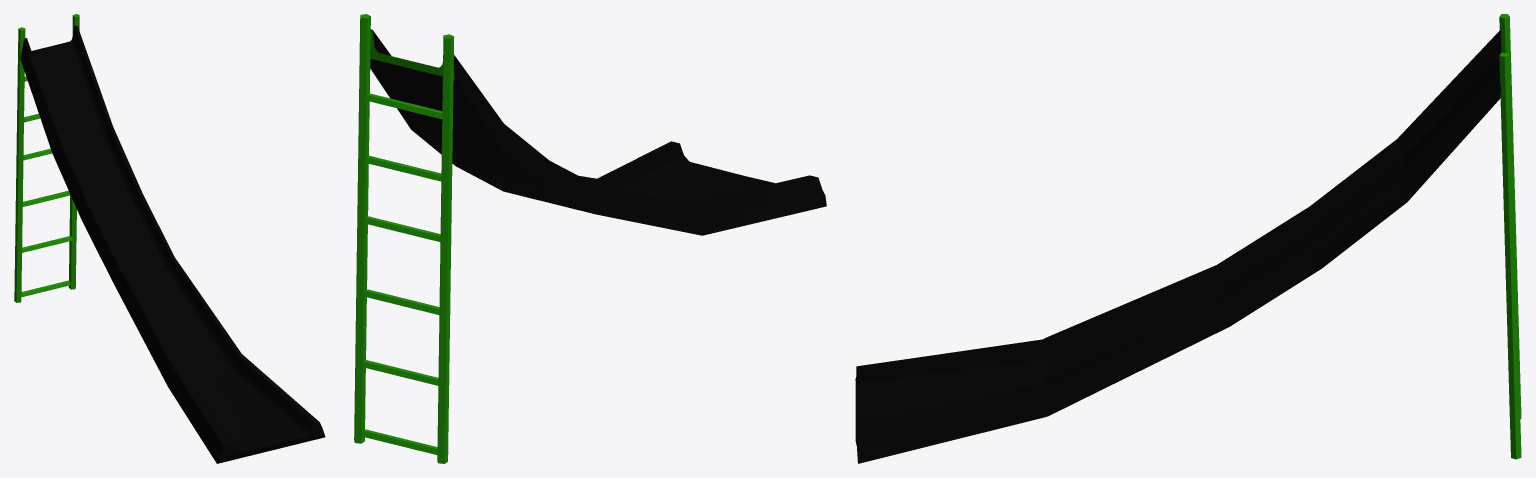
The model's file is Slide_AD.fbx.
The picture shows the model from 3 angles, left to right: view 1: azimuth 30°, elevation 25°; view 2: azimuth 150°, elevation 25°; view 3: azimuth 270°, elevation 25°; orthographic projection. The views are drawn at different scales.
Visible parts, largest first — view 1: Slide_AD; view 2: Slide_AD; view 3: Slide_AD.
Boxes of the visible parts, x1,y1,x2,y2 form: Slide_AD: (14, 14, 325, 463); Slide_AD: (354, 14, 826, 463); Slide_AD: (855, 14, 1521, 463).
Bounding box in the file's own units: 127 × 307 × 460.
